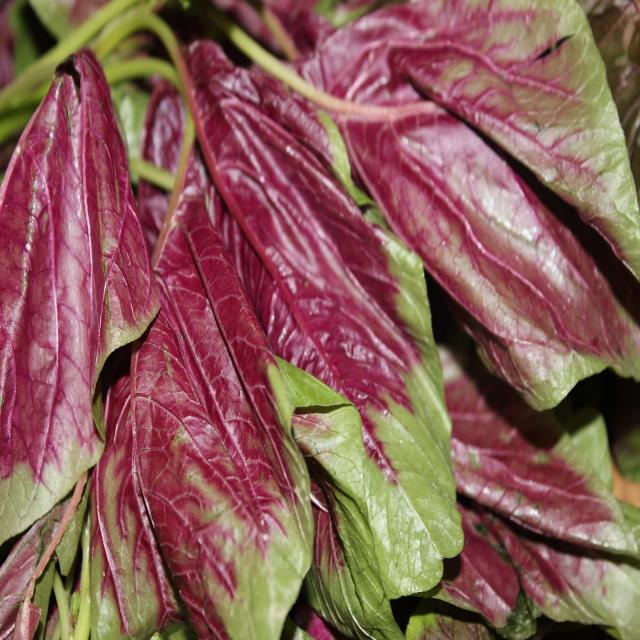Medicinal-Arive Dantu: (148, 17, 591, 640), (0, 36, 123, 520)
